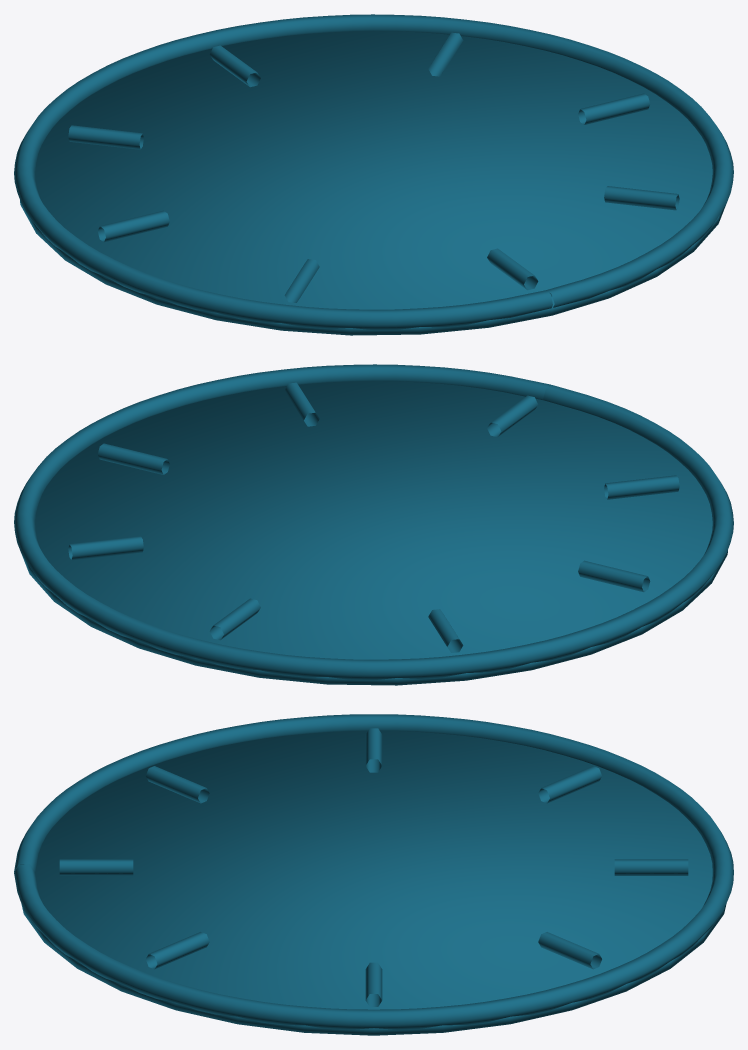
Rendered from ground-2-refined-v15.fbx.
3 renders of one model, top to bottom at view 1: azimuth 30°, elevation 25°; view 2: azimuth 150°, elevation 25°; view 3: azimuth 270°, elevation 25°, orthographic.
Visible parts, largest first — view 1: GroundSurface.002, AreaRune.004, RuneDash.009, RuneDash.013, RuneDash.010, RuneDash.014, RuneDash.008, RuneDash.012, RuneDash.011, RuneDash.015; view 2: GroundSurface.002, AreaRune.004, RuneDash.011, RuneDash.015, RuneDash.010, RuneDash.014, RuneDash.008, RuneDash.012, RuneDash.009, RuneDash.013; view 3: GroundSurface.002, AreaRune.004, RuneDash.008, RuneDash.012, RuneDash.011, RuneDash.013, RuneDash.015, RuneDash.009, RuneDash.010, RuneDash.014.
Boxes of the visible parts, box(x1,y1,x2,y2) form: GroundSurface.002: box(20, 31, 726, 335); AreaRune.004: box(14, 14, 733, 330); RuneDash.009: box(604, 186, 679, 210); RuneDash.013: box(68, 125, 143, 149); RuneDash.010: box(578, 93, 650, 124); RuneDash.014: box(97, 210, 169, 242); RuneDash.008: box(487, 248, 538, 290); RuneDash.012: box(209, 45, 260, 87); RuneDash.011: box(428, 32, 463, 76); RuneDash.015: box(284, 259, 319, 302); GroundSurface.002: box(21, 381, 727, 685); AreaRune.004: box(14, 364, 733, 680); RuneDash.011: box(68, 536, 143, 560); RuneDash.015: box(604, 475, 679, 499); RuneDash.010: box(97, 443, 169, 474); RuneDash.014: box(578, 560, 650, 592); RuneDash.008: box(487, 395, 538, 437); RuneDash.012: box(209, 598, 260, 640); RuneDash.009: box(284, 382, 319, 426); RuneDash.013: box(428, 609, 463, 652); GroundSurface.002: box(19, 731, 726, 1035); AreaRune.004: box(14, 714, 733, 1029); RuneDash.008: box(59, 859, 133, 875); RuneDash.012: box(614, 859, 688, 875); RuneDash.011: box(538, 932, 601, 969); RuneDash.013: box(538, 766, 601, 803); RuneDash.015: box(146, 766, 209, 803); RuneDash.009: box(146, 932, 209, 969); RuneDash.010: box(365, 962, 382, 1006); RuneDash.014: box(365, 728, 382, 772).
Size of the model in its own units: 94.8 by 3.45 by 94.79.
